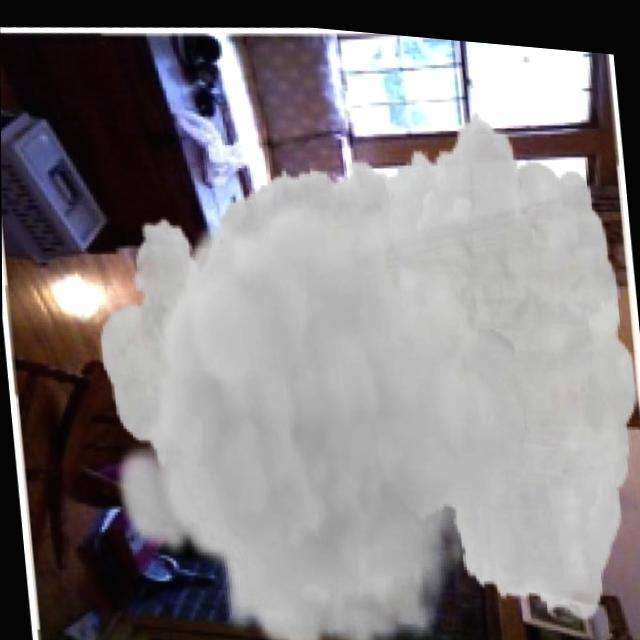Smoke: (75, 96, 640, 640)
